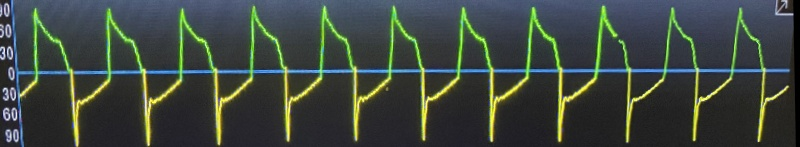peepi: (26, 0, 761, 146)
